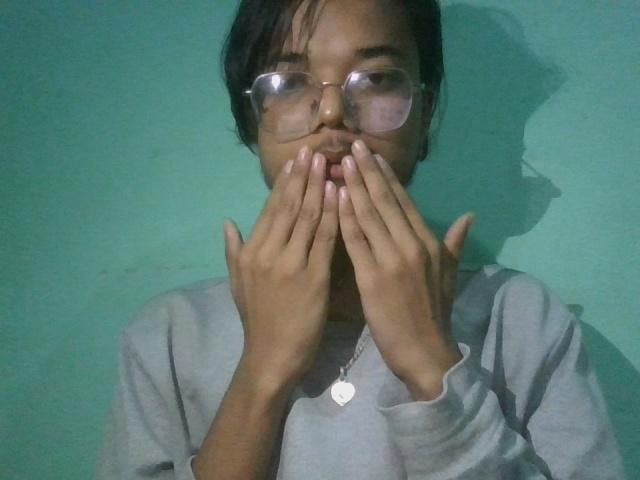Thank You: (184, 66, 507, 396)
